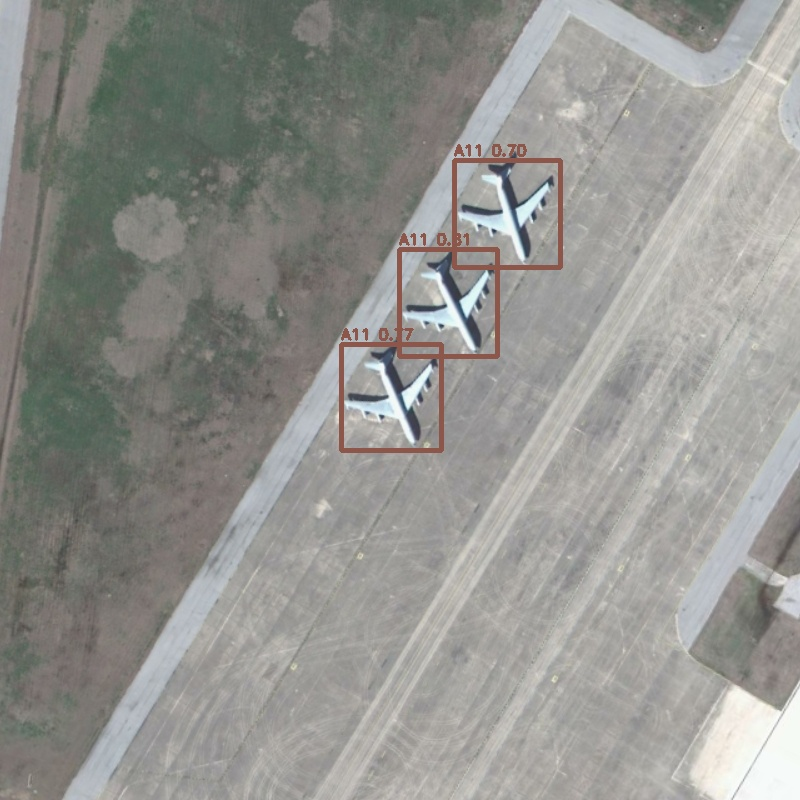A11: (454, 160, 560, 267), (341, 344, 441, 450), (399, 249, 497, 356)
